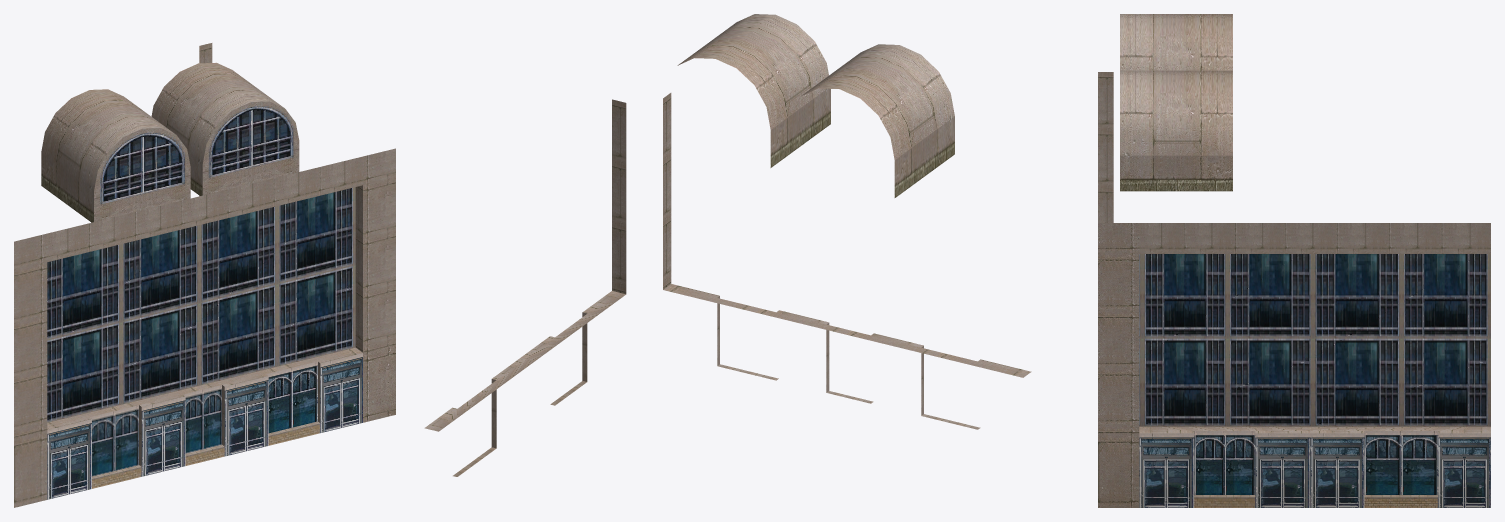
File: M2Zone4_Building01.glb
3 views of the same model, side by side, from view 1: azimuth 30°, elevation 25°; view 2: azimuth 150°, elevation 25°; view 3: azimuth 270°, elevation 25° (orthographic). The views are drawn at different scales.
Parts seen in each view (by area): view 1: M2ZONE4_BUILDING01; view 2: M2ZONE4_BUILDING01; view 3: M2ZONE4_BUILDING01.
Part boxes in pixels (<box>): M2ZONE4_BUILDING01: <box>14,43,395,507</box>; M2ZONE4_BUILDING01: <box>424,14,1031,476</box>; M2ZONE4_BUILDING01: <box>1098,14,1490,507</box>.
Size of the model in its own units: 24 by 20.3 by 20.
Materials: 5 (5 with a texture image).
